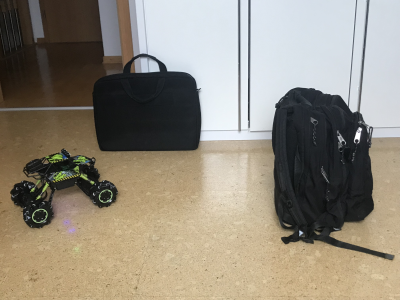remote control car: (8, 142, 119, 230)
